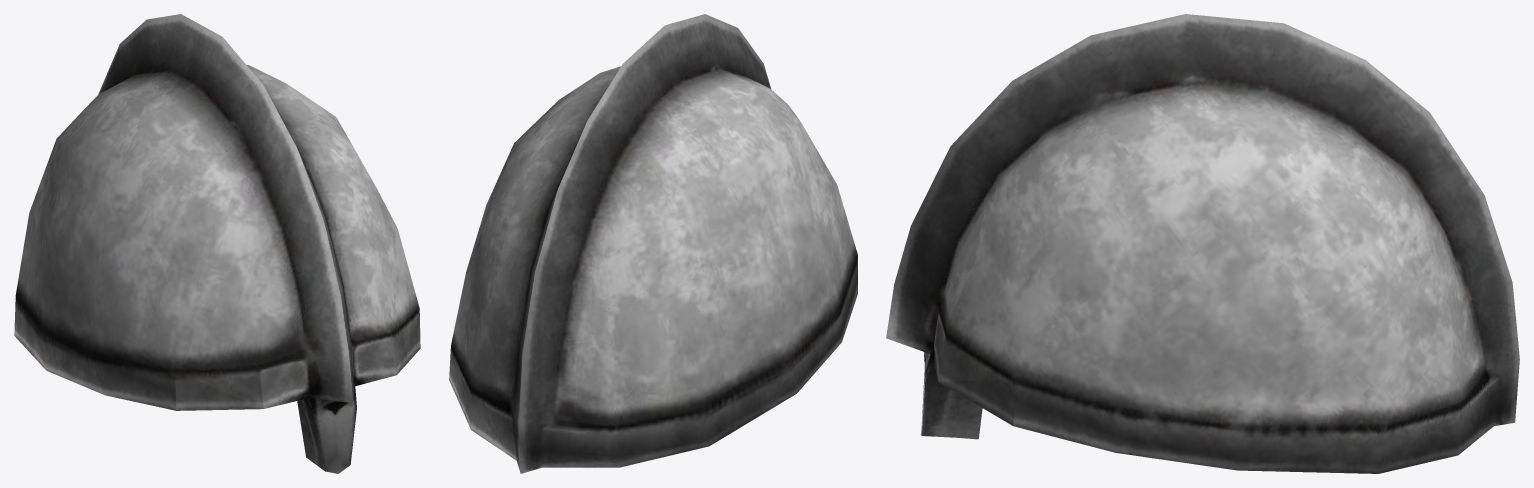
The model's file is armor-mediuminfantry.glb.
3 renders of one model, left to right at view 1: azimuth 30°, elevation 25°; view 2: azimuth 150°, elevation 25°; view 3: azimuth 270°, elevation 25°, orthographic. The views are drawn at different scales.
Bounding box in the file's own units: 0.232 × 0.2536 × 0.3441.
Materials: 1 (1 with a texture image).
